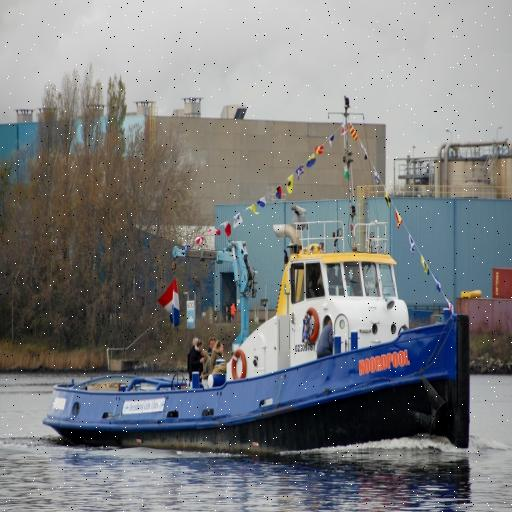tugboat: (40, 92, 476, 466)
